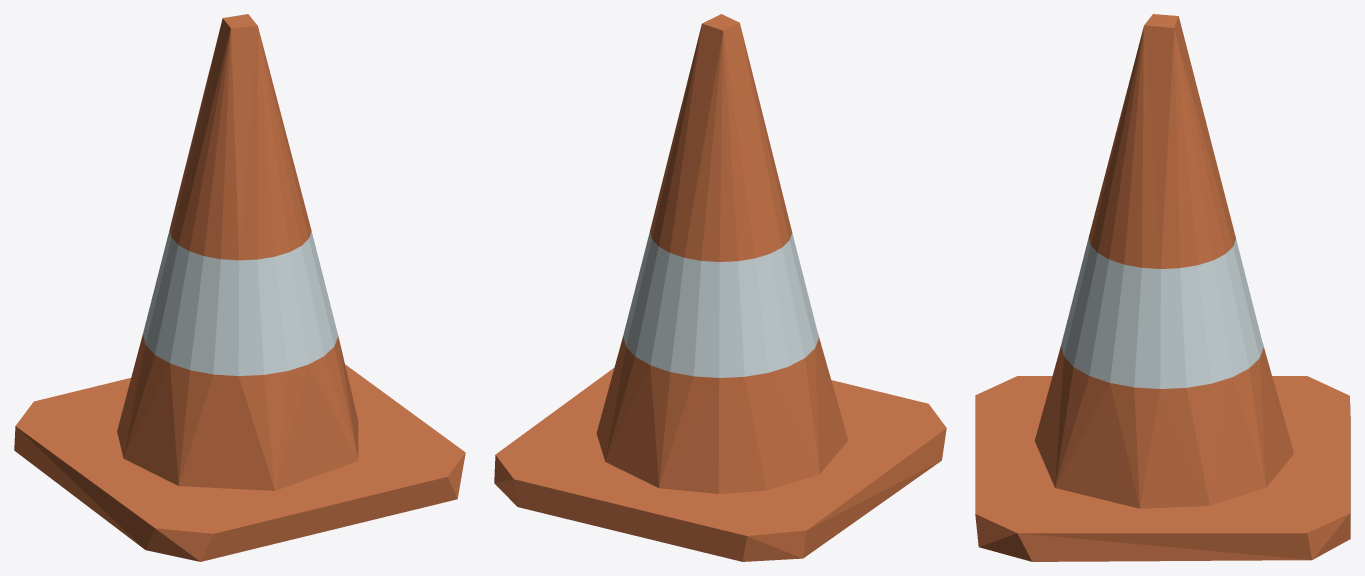
Rendered from cone_red.dae.
3 renders of one model, left to right at view 1: azimuth 30°, elevation 25°; view 2: azimuth 150°, elevation 25°; view 3: azimuth 270°, elevation 25°, orthographic. The views are drawn at different scales.
Visible parts, largest first — view 1: node; view 2: node; view 3: node.
Part boxes in pixels (left/top/right/bottom): node: left=14, top=14, right=465, bottom=561; node: left=494, top=14, right=946, bottom=561; node: left=975, top=14, right=1350, bottom=561.
Bounding box in the file's own units: 0.2254 × 0.224 × 0.3034.
